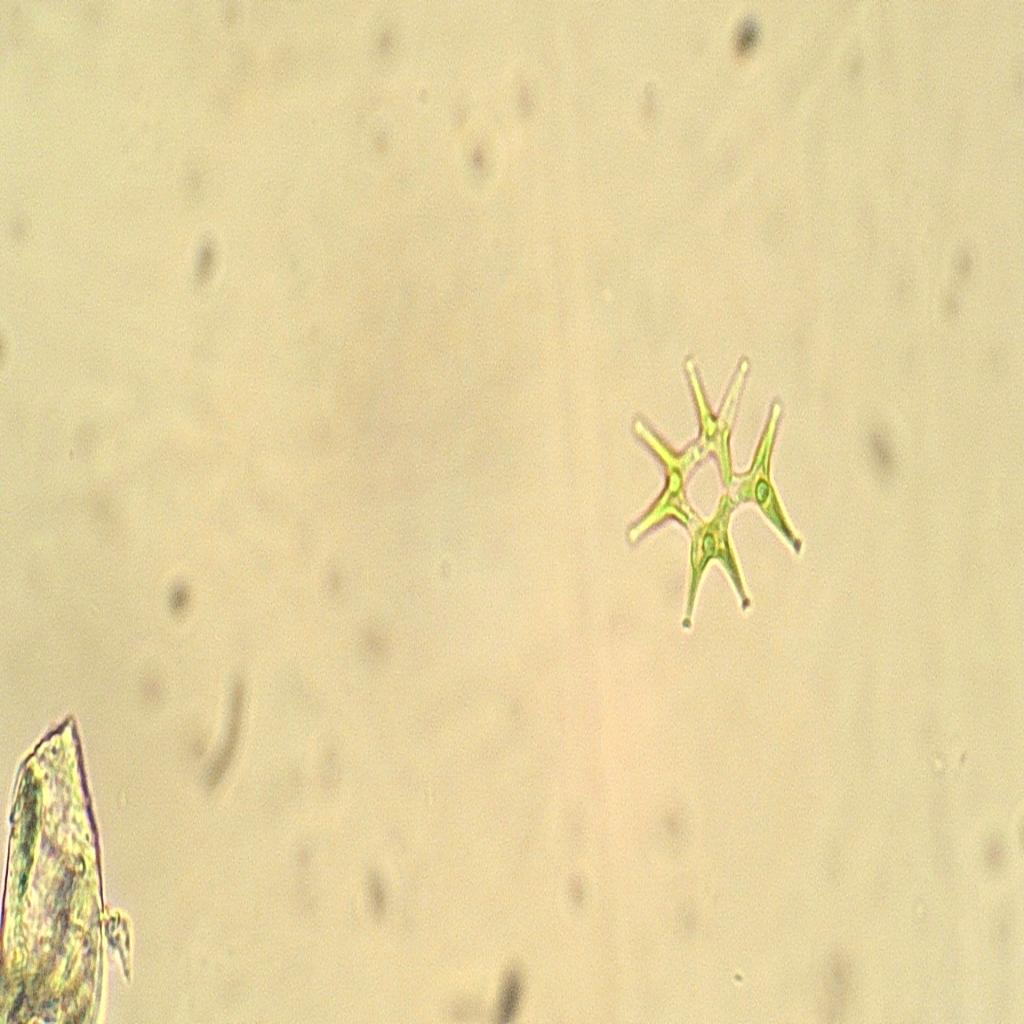Pediastrum_CT: (614, 323, 817, 638)
